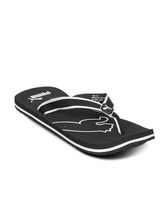shoes: (7, 84, 158, 154)
